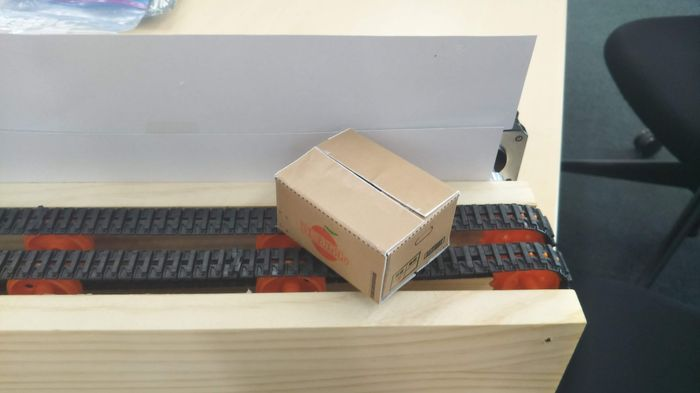box1: (271, 124, 461, 307)
